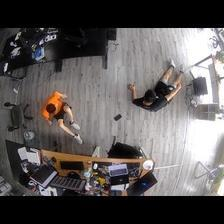fall: (128, 60, 186, 109), (39, 91, 86, 143)
